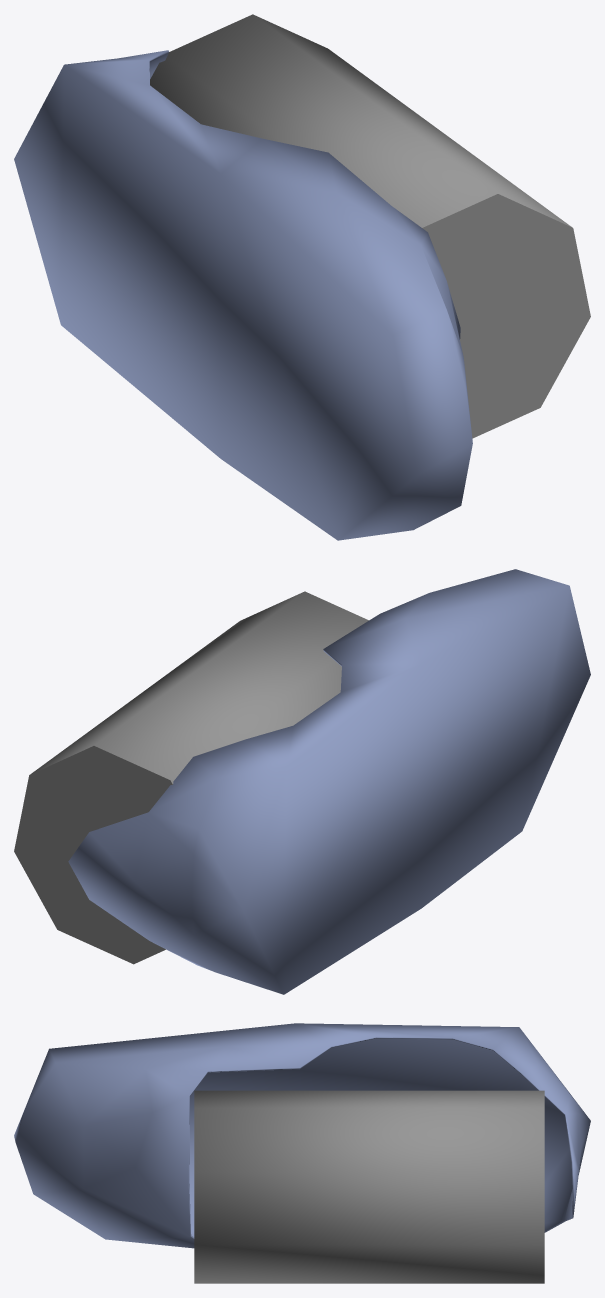
File: icub_simple_l_foot.dae
3 renders of one model, top to bottom at view 1: azimuth 30°, elevation 25°; view 2: azimuth 150°, elevation 25°; view 3: azimuth 270°, elevation 25°, orthographic. The views are drawn at different scales.
Visible parts, largest first — view 1: l_foot_mesh; view 2: l_foot_mesh; view 3: l_foot_mesh.
Part boxes in pixels (bbox=[...]): l_foot_mesh: bbox=[14, 14, 590, 540]; l_foot_mesh: bbox=[14, 569, 590, 994]; l_foot_mesh: bbox=[14, 1023, 590, 1283].
Size of the model in its own units: 0.067 by 0.061 by 0.1565.
